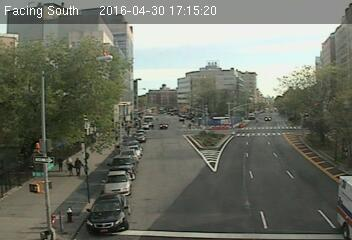neg: (307, 67, 324, 89), (176, 13, 192, 35), (140, 182, 155, 202), (197, 144, 209, 160), (154, 134, 165, 149), (242, 154, 252, 168), (225, 80, 235, 93)
pos: (62, 155, 78, 176), (71, 155, 86, 176), (53, 155, 67, 174), (185, 122, 193, 132)
